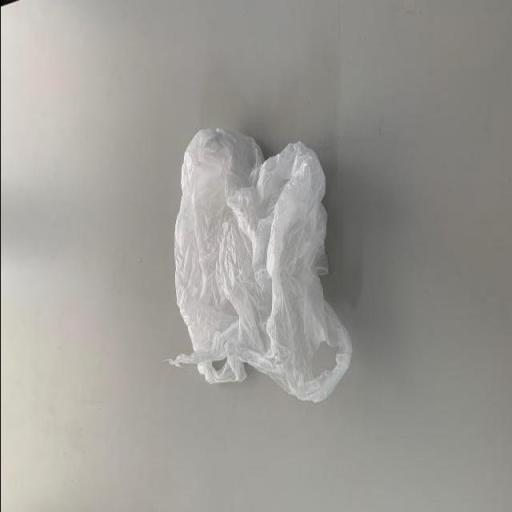plastic-bag: (164, 124, 354, 406)
